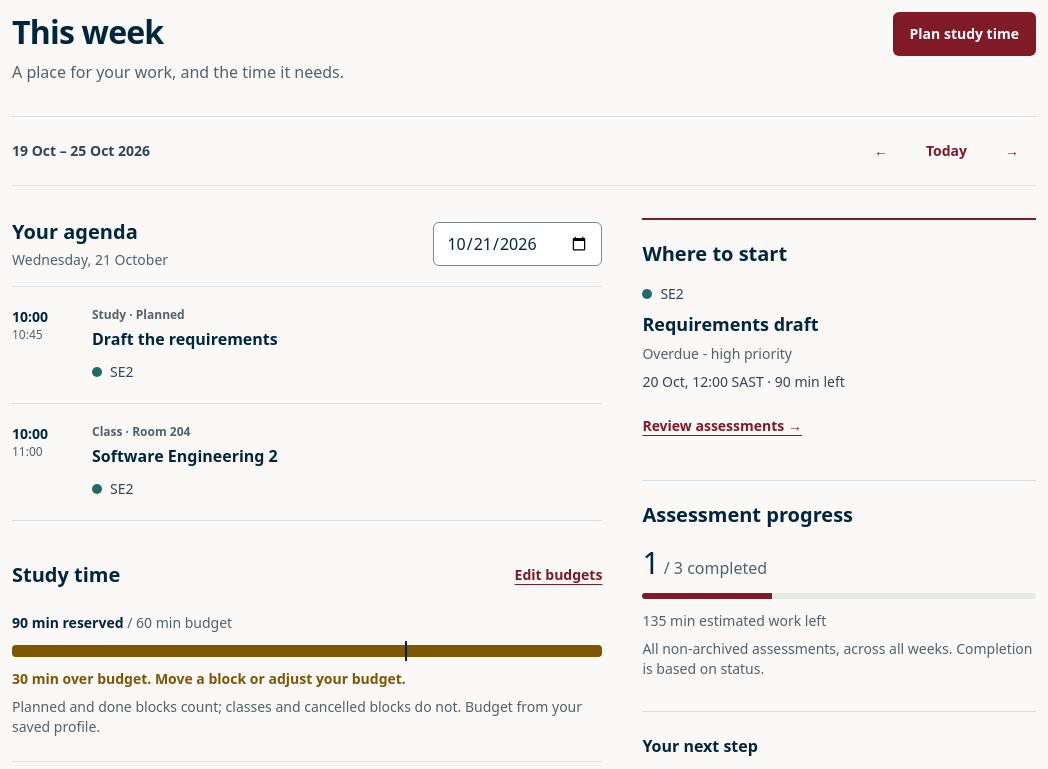
Test case: integrated dashboard recommendations and workload › uses the selected SAST day, retains Done allocation, excludes Cancelled and updates the budget warning
The image size is (1048, 769).
Expected: the text "90 min reserved" is shown, x1=12 y1=613 x2=124 y2=632
Expected: the text "30 min over budget. Move a block or adjust your budget." is shown, x1=12 y1=669 x2=406 y2=688
Type "2026-10-22" into the date field named "Agenda date" at (518, 244), box x1=433 y1=222 x2=602 y2=266
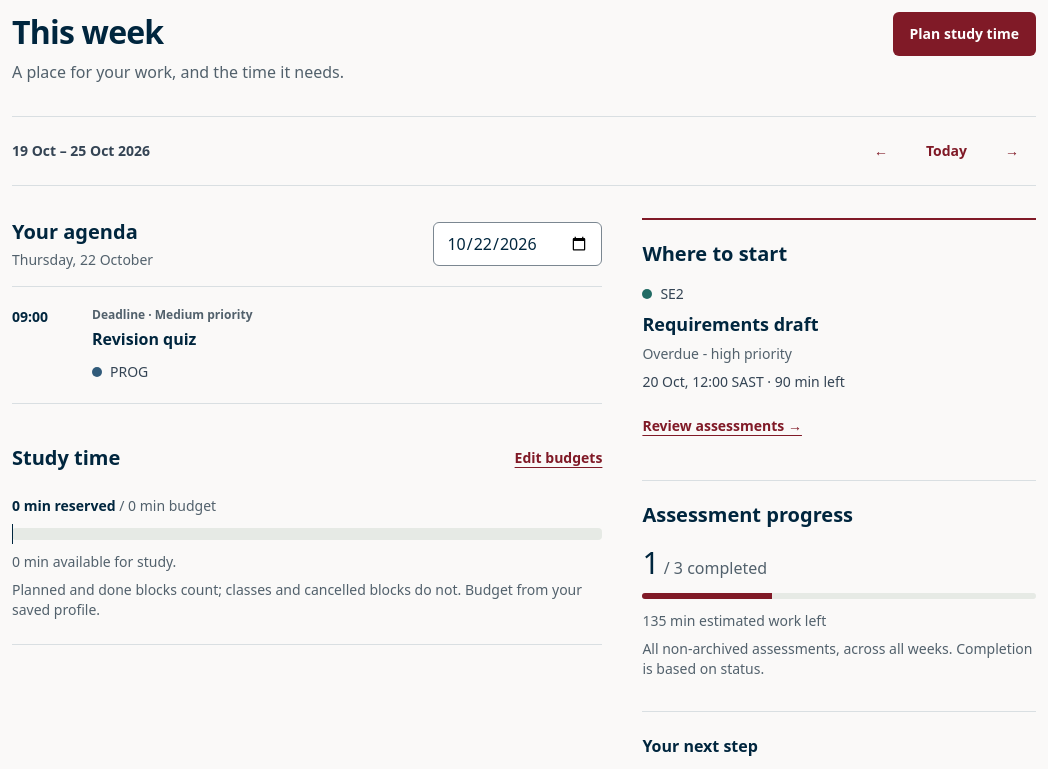
Expected: the text "0 min reserved" is shown, x1=12 y1=496 x2=116 y2=515
Expected: the text "min over budget" is gone
Expected: the text "0 min available for study." is shown, x1=12 y1=552 x2=176 y2=571
